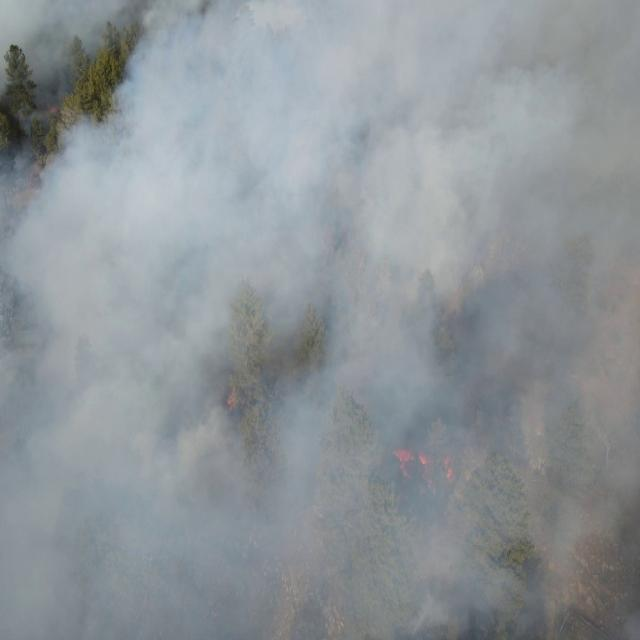fire: (395, 446, 436, 494), (441, 455, 459, 485), (223, 388, 238, 412), (48, 100, 60, 120)
smoke: (2, 0, 640, 640)
